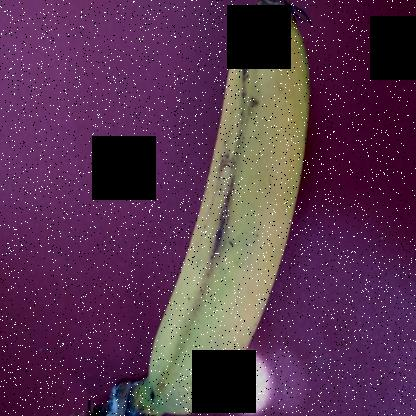ripe: (110, 12, 311, 415)
